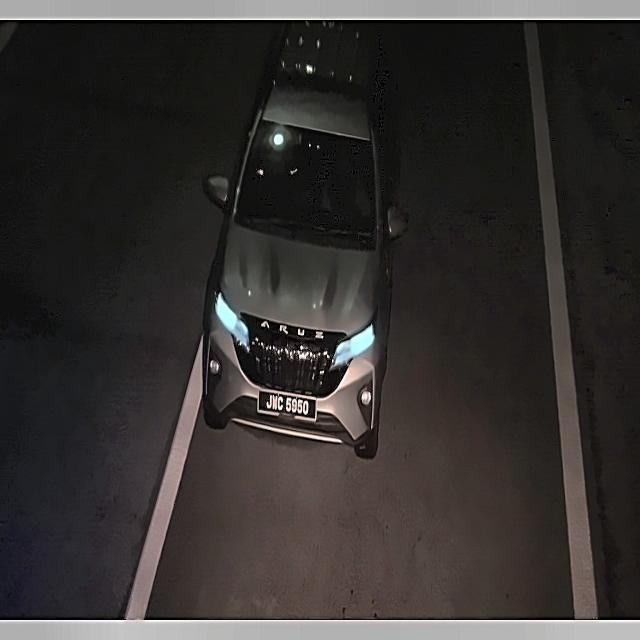car: (255, 386, 318, 427)
